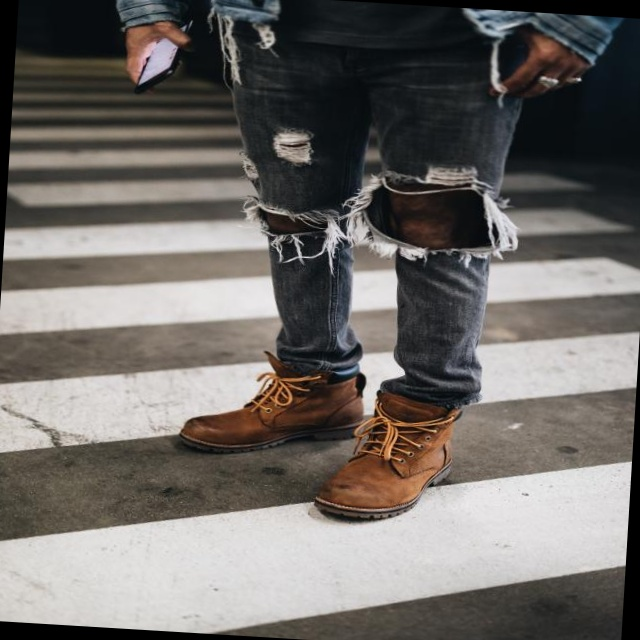ripped_pants: (211, 0, 535, 406)
